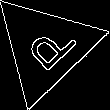P_SW: (15, 16, 77, 78)
